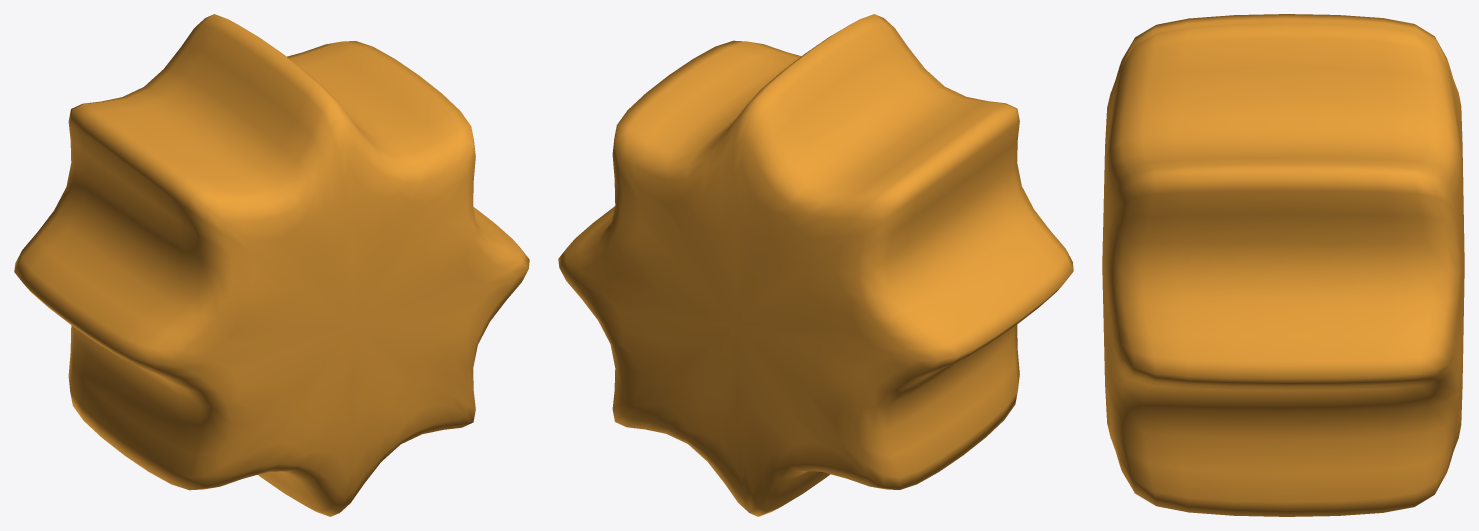
The model's file is star.glb.
3 views of the same model, side by side, from view 1: azimuth 30°, elevation 25°; view 2: azimuth 150°, elevation 25°; view 3: azimuth 270°, elevation 25° (orthographic). The views are drawn at different scales.
Parts seen in each view (by area): view 1: Cylinder; view 2: Cylinder; view 3: Cylinder.
Boxes of the visible parts, bbox=[...] form: Cylinder: bbox=[14, 14, 529, 516]; Cylinder: bbox=[558, 14, 1073, 516]; Cylinder: bbox=[1102, 14, 1464, 516].
Size of the model in its own units: 0.5482 by 0.5482 by 0.3712.
1 material, 1 textured.
